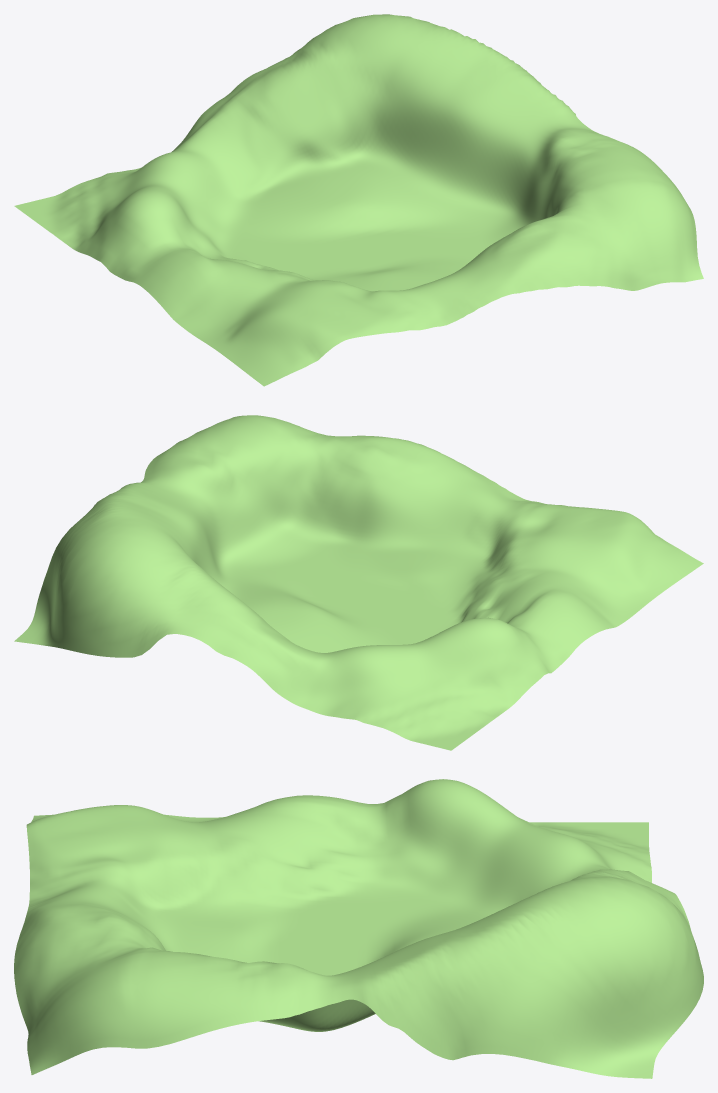
File: ground_test.glb
The picture shows the model from 3 angles, top to bottom: view 1: azimuth 30°, elevation 25°; view 2: azimuth 150°, elevation 25°; view 3: azimuth 270°, elevation 25°; orthographic projection. The views are drawn at different scales.
Visible parts, largest first — view 1: Plane; view 2: Plane; view 3: Plane.
Part boxes in pixels (box(x1,y1,x2,y2)): Plane: box(14, 14, 703, 386); Plane: box(14, 415, 703, 750); Plane: box(14, 779, 703, 1078).
Bounding box in the file's own units: 72.37 × 17.19 × 75.09.
